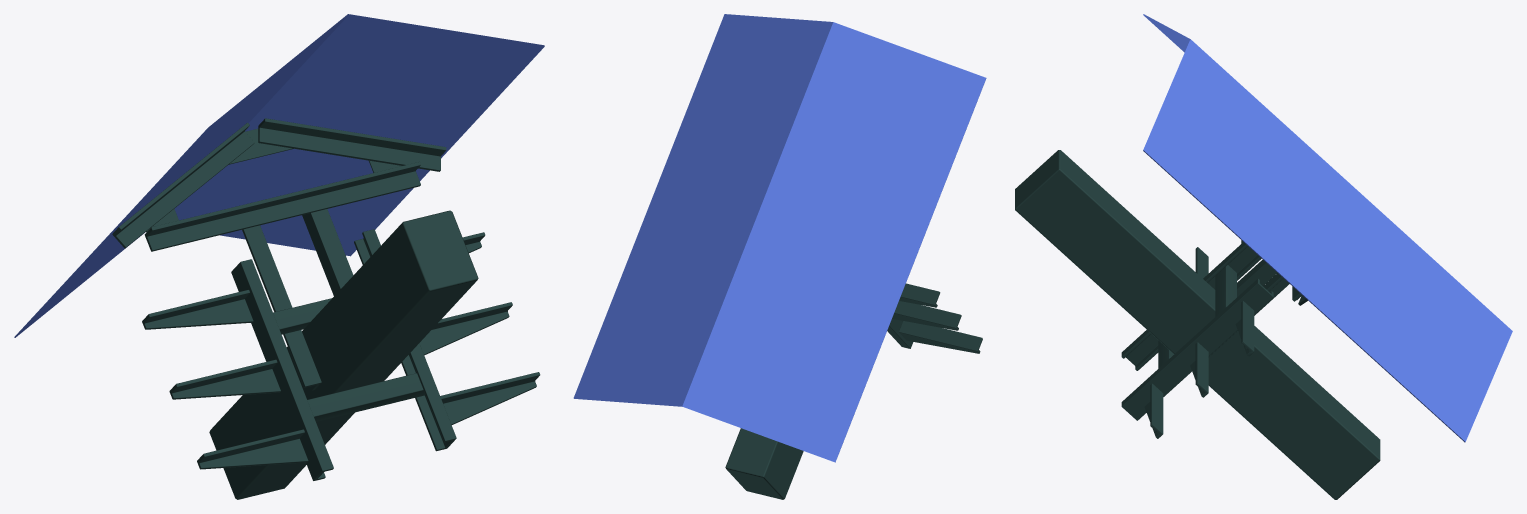
The model's file is SM_Diagonal_1m.fbx.
The picture shows the model from 3 angles, left to right: view 1: azimuth 30°, elevation 25°; view 2: azimuth 150°, elevation 25°; view 3: azimuth 270°, elevation 25°; orthographic projection. The views are drawn at different scales.
Parts seen in each view (by area): view 1: SM_Diagonal_1m_LOD0; view 2: SM_Diagonal_1m_LOD0; view 3: SM_Diagonal_1m_LOD0.
Part boxes in pixels (x1,y1,x2,y2): SM_Diagonal_1m_LOD0: [14, 14, 544, 499]; SM_Diagonal_1m_LOD0: [573, 14, 986, 499]; SM_Diagonal_1m_LOD0: [1015, 14, 1512, 499].
Size of what is drawn, in the model's own units: 100 by 155 by 155.
